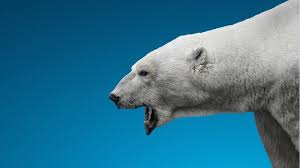PolarBear: (107, 0, 299, 168)
